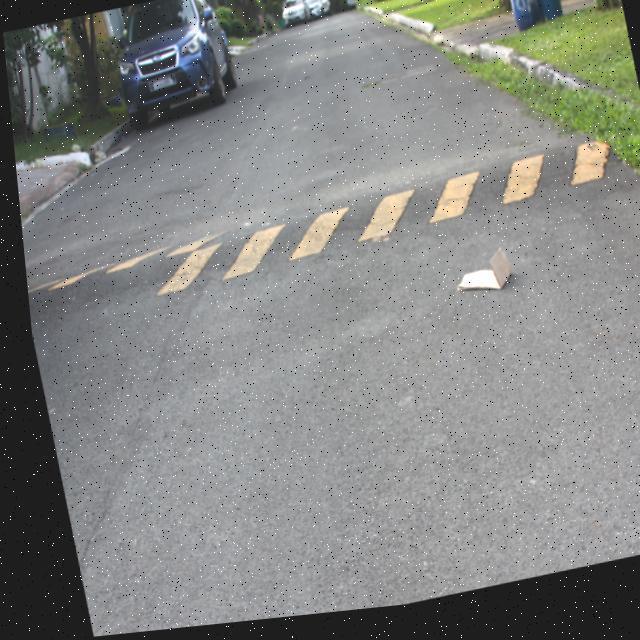Paper_Bag: (443, 255, 508, 307)
